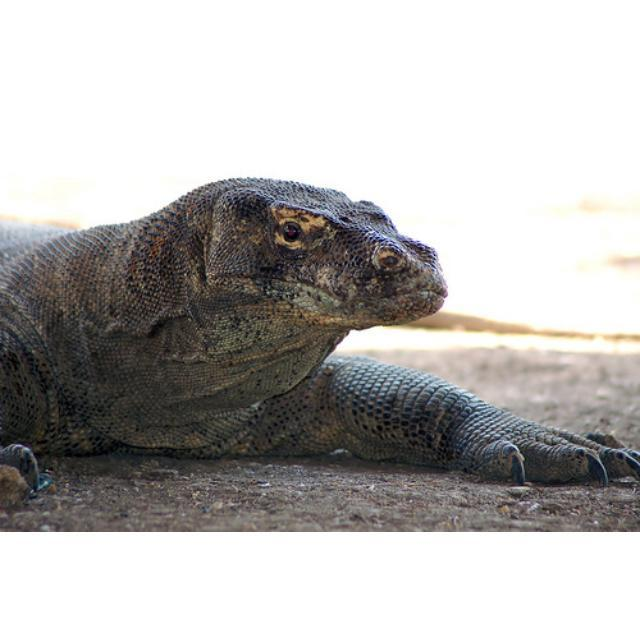KomodoDragon: (3, 172, 637, 485)
